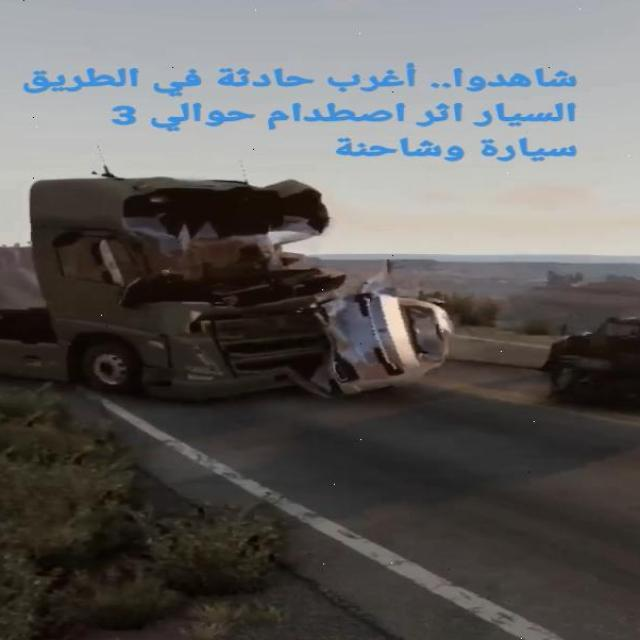accident: (0, 172, 452, 407)
